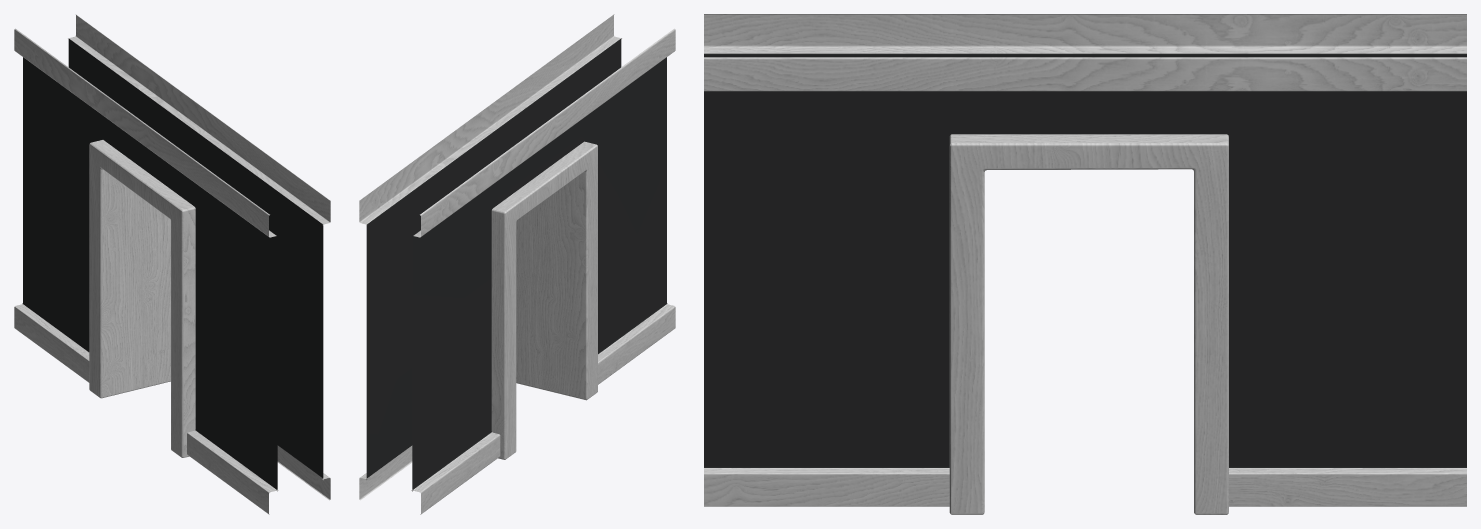
The model's file is DoorWall.fbx.
3 views of the same model, side by side, from view 1: azimuth 30°, elevation 25°; view 2: azimuth 150°, elevation 25°; view 3: azimuth 270°, elevation 25° (orthographic). The views are drawn at different scales.
Parts seen in each view (by area): view 1: polySurface14; view 2: polySurface14; view 3: polySurface14.
Part boxes in pixels (x1,y1,x2,y2): polySurface14: (14,14,330,514); polySurface14: (359,14,675,514); polySurface14: (704,14,1466,514).
Size of the model in its own units: 66.14 by 262 by 400.
